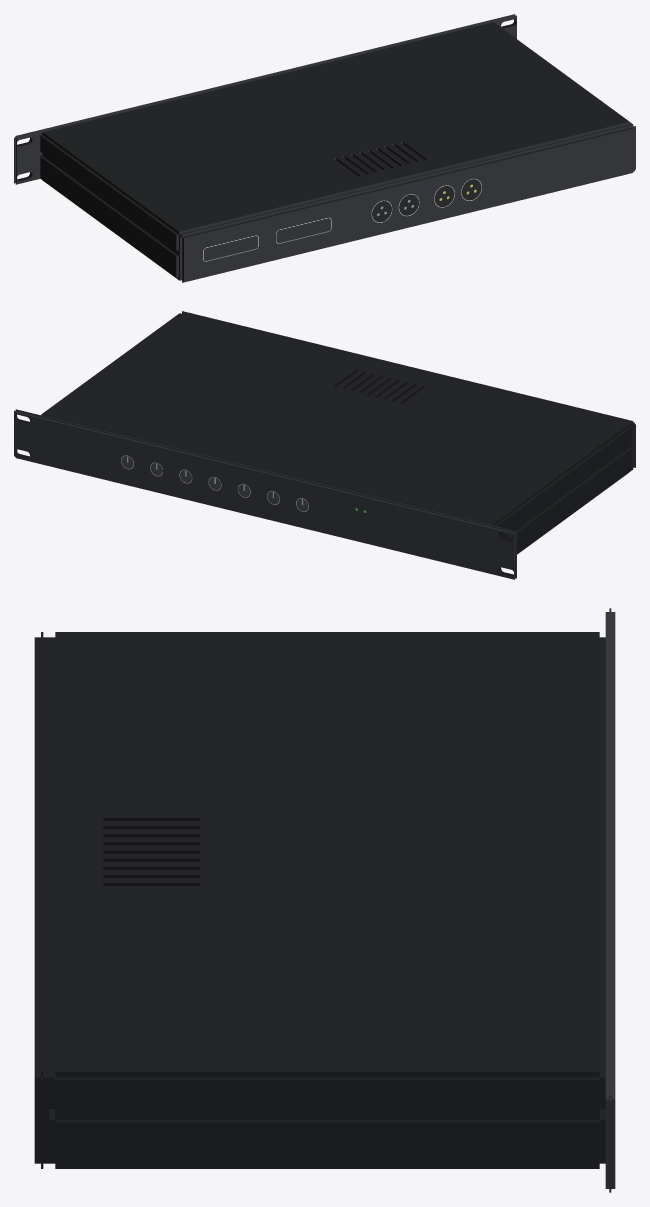
File: dangerous-music-monitor-st.glb
The picture shows the model from 3 angles, top to bottom: view 1: azimuth 30°, elevation 25°; view 2: azimuth 150°, elevation 25°; view 3: azimuth 270°, elevation 25°; orthographic projection. The views are drawn at different scales.
Visible parts, largest first — view 1: dangerous-music-monitor-st-body; view 2: dangerous-music-monitor-st-body; view 3: dangerous-music-monitor-st-body.
Boxes of the visible parts, bbox=[...] form: dangerous-music-monitor-st-body: bbox=[14, 14, 635, 282]; dangerous-music-monitor-st-body: bbox=[14, 311, 635, 579]; dangerous-music-monitor-st-body: bbox=[34, 608, 615, 1192].
Size of the model in its own units: 0.4826 by 0.0445 by 0.2413.
1 material, 1 textured.
